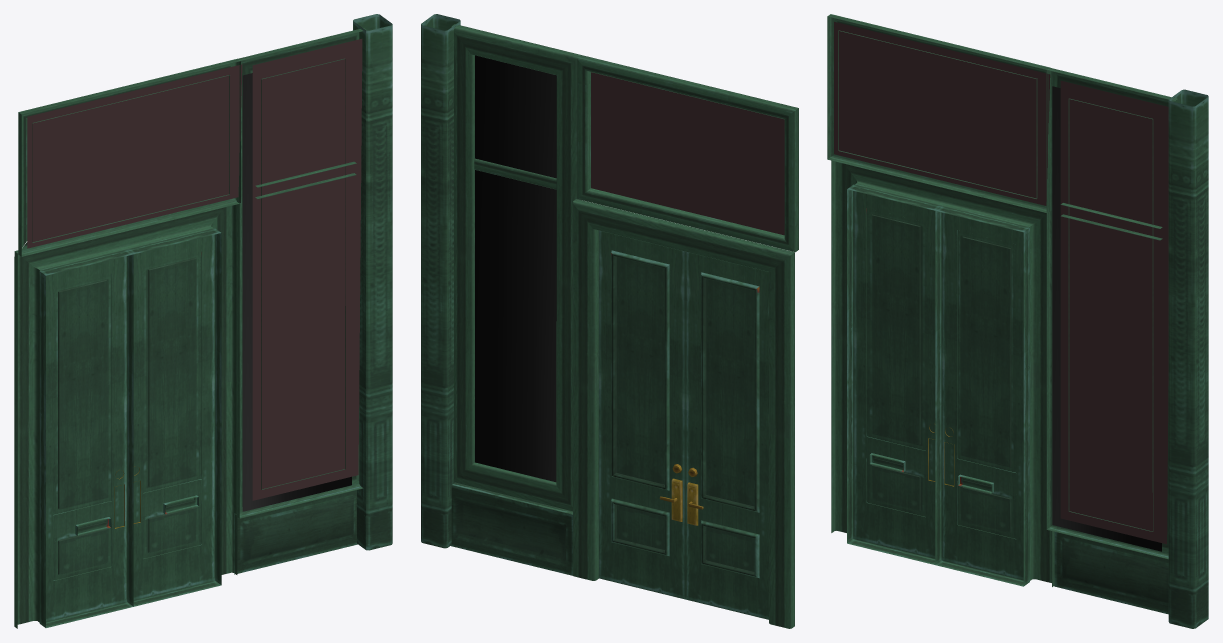
The model's file is Shop_2_1_10 (5).fbx.
3 renders of one model, left to right at view 1: azimuth 30°, elevation 25°; view 2: azimuth 150°, elevation 25°; view 3: azimuth 330°, elevation 25°, orthographic.
Parts seen in each view (by area): view 1: Shop_2_1_10__5_, Glass2; view 2: Shop_2_1_10__5_, Glass2; view 3: Shop_2_1_10__5_, Glass2.
Boxes of the visible parts, x1=… form: Shop_2_1_10__5_: x1=14, y1=14, x2=392, y2=628; Glass2: x1=242, y1=73, x2=351, y2=511; Shop_2_1_10__5_: x1=421, y1=14, x2=798, y2=628; Glass2: x1=475, y1=55, x2=556, y2=482; Shop_2_1_10__5_: x1=827, y1=14, x2=1208, y2=628; Glass2: x1=1052, y1=86, x2=1161, y2=551.
Size of the model in its own units: 252 by 340 by 22.21.
